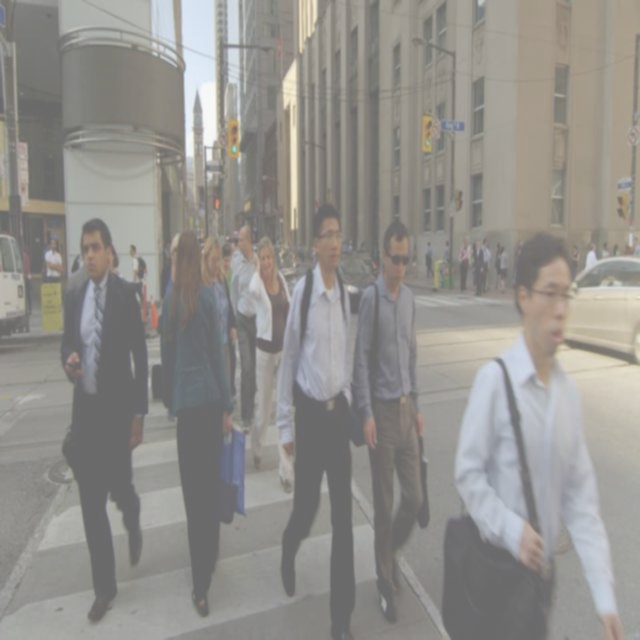pessoa: (438, 226, 628, 639), (59, 213, 151, 626), (274, 198, 360, 639), (157, 228, 250, 622), (346, 215, 433, 630), (246, 234, 296, 493), (228, 223, 262, 435), (200, 231, 239, 407), (159, 232, 181, 422), (220, 242, 240, 412), (20, 241, 50, 321), (128, 243, 152, 320), (342, 236, 382, 276), (278, 237, 320, 267), (458, 233, 476, 296), (44, 237, 64, 284), (510, 232, 522, 301), (108, 242, 126, 284), (482, 236, 493, 294), (473, 237, 483, 298), (498, 244, 510, 294), (584, 242, 600, 278), (406, 242, 418, 280), (70, 249, 88, 274), (569, 243, 580, 281), (424, 239, 434, 280), (494, 242, 502, 292), (600, 240, 612, 260), (632, 236, 640, 258), (442, 239, 450, 261), (228, 236, 238, 252), (610, 242, 620, 256)
